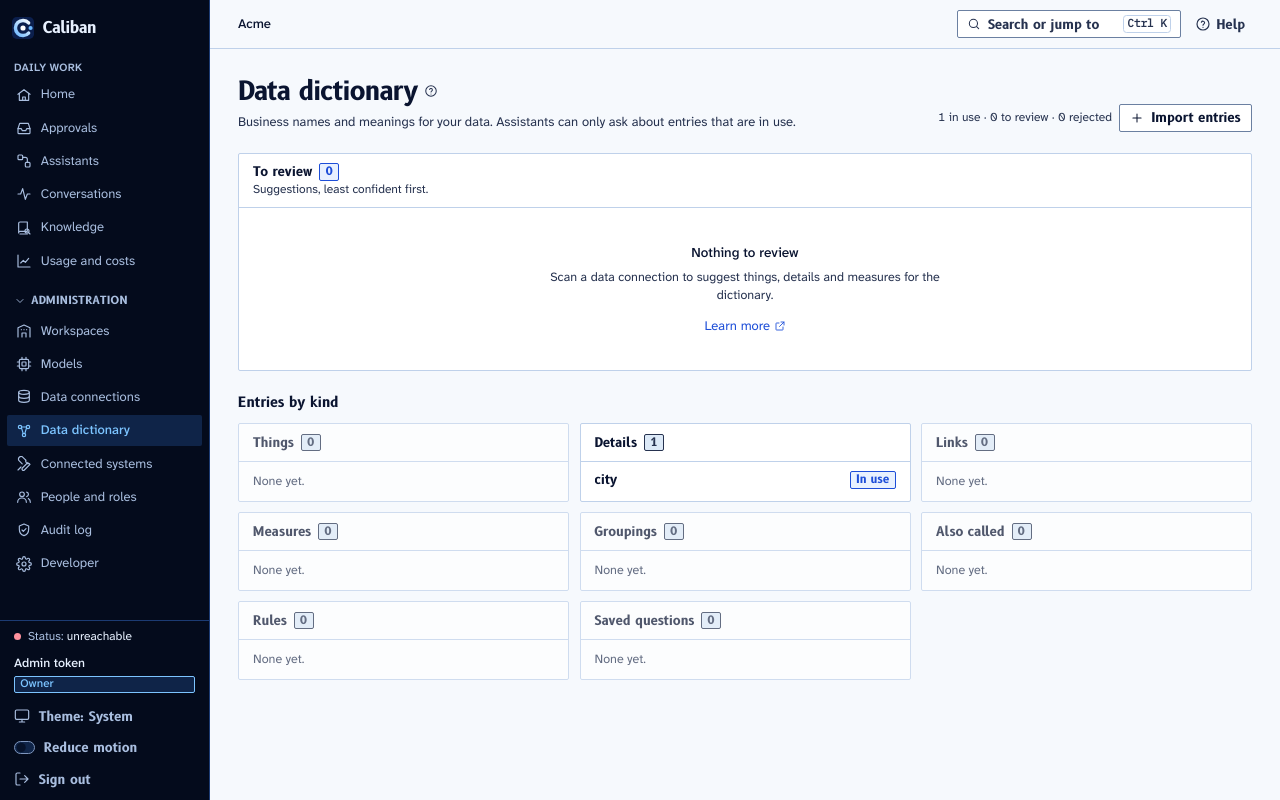
OntologyPage › shows the node versions a withdrawal breaks, and goes ahead only when acknowledged
What coordinates should you click on to do the following:
click the button "city In use"
I would click on:
 (873, 480)
Its box is [580,465,910,494].
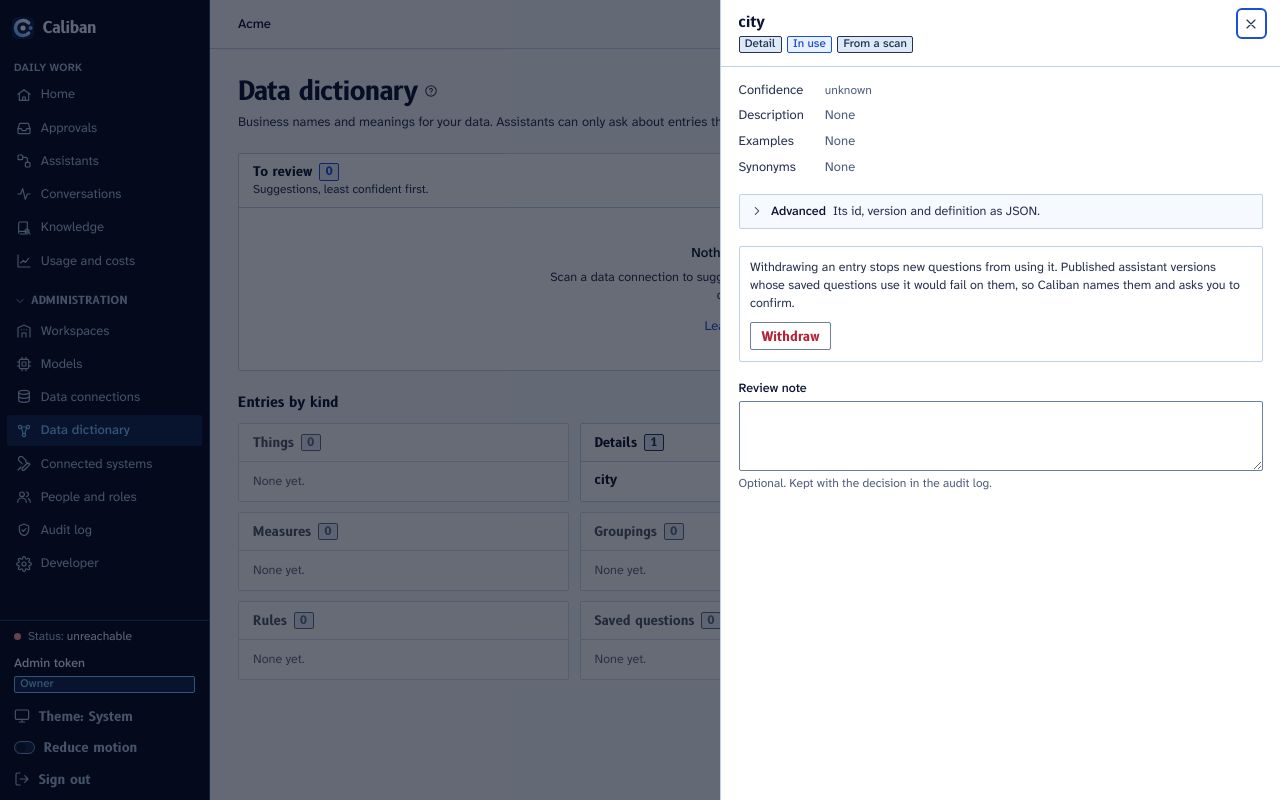
What coordinates should you click on to do the following:
click the button with aria-label "Withdraw city"
I would click on:
 (791, 336)
Its box is [750,322,831,350].
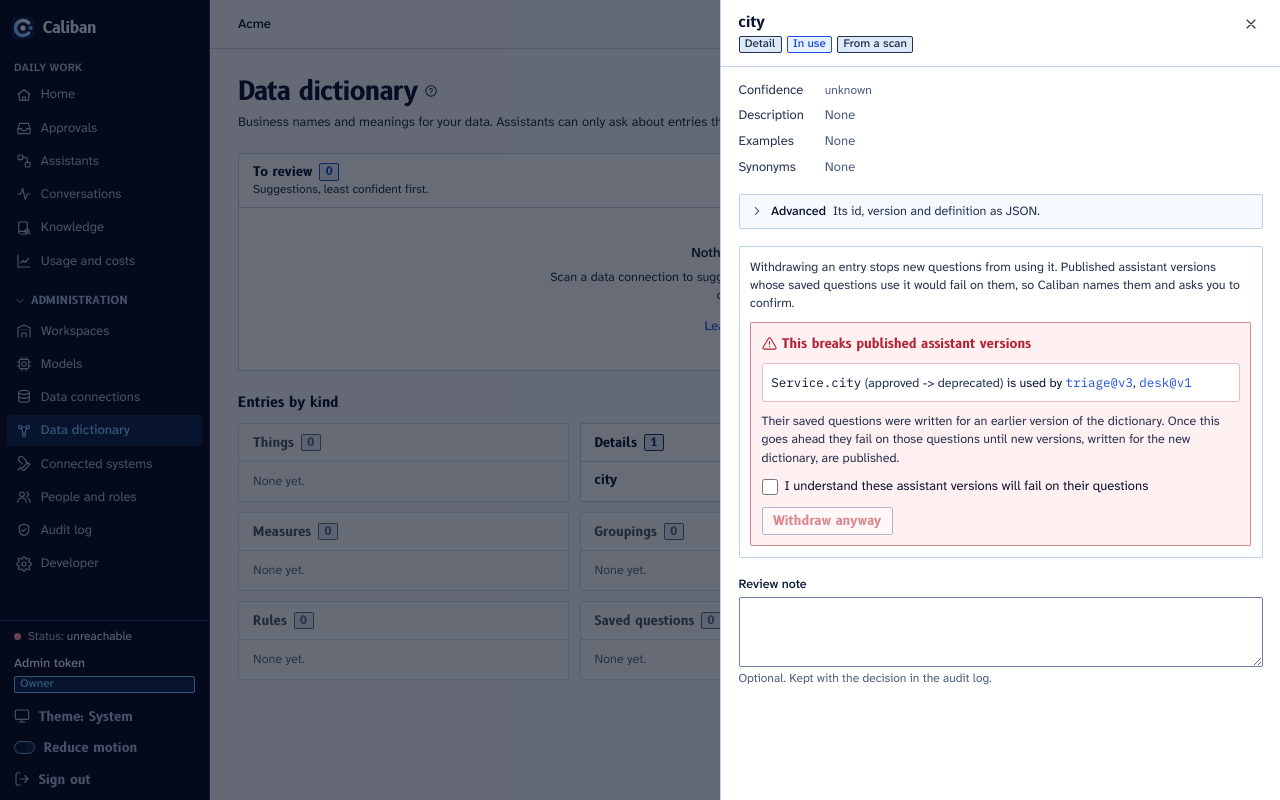
Expected: the link "desk@v1" is shown, [1139,374,1192,390]
Expected: the element named "Breaking change" shows "approved -> deprecated", [868,375,1000,391]
Expected: the button with aria-label "Withdraw city anyway" is disabled, [762,507,893,535]
What coordinates should you click on to do the following:
click the checkbox
I would click on:
 (770, 487)
Its box is [762,479,778,495].
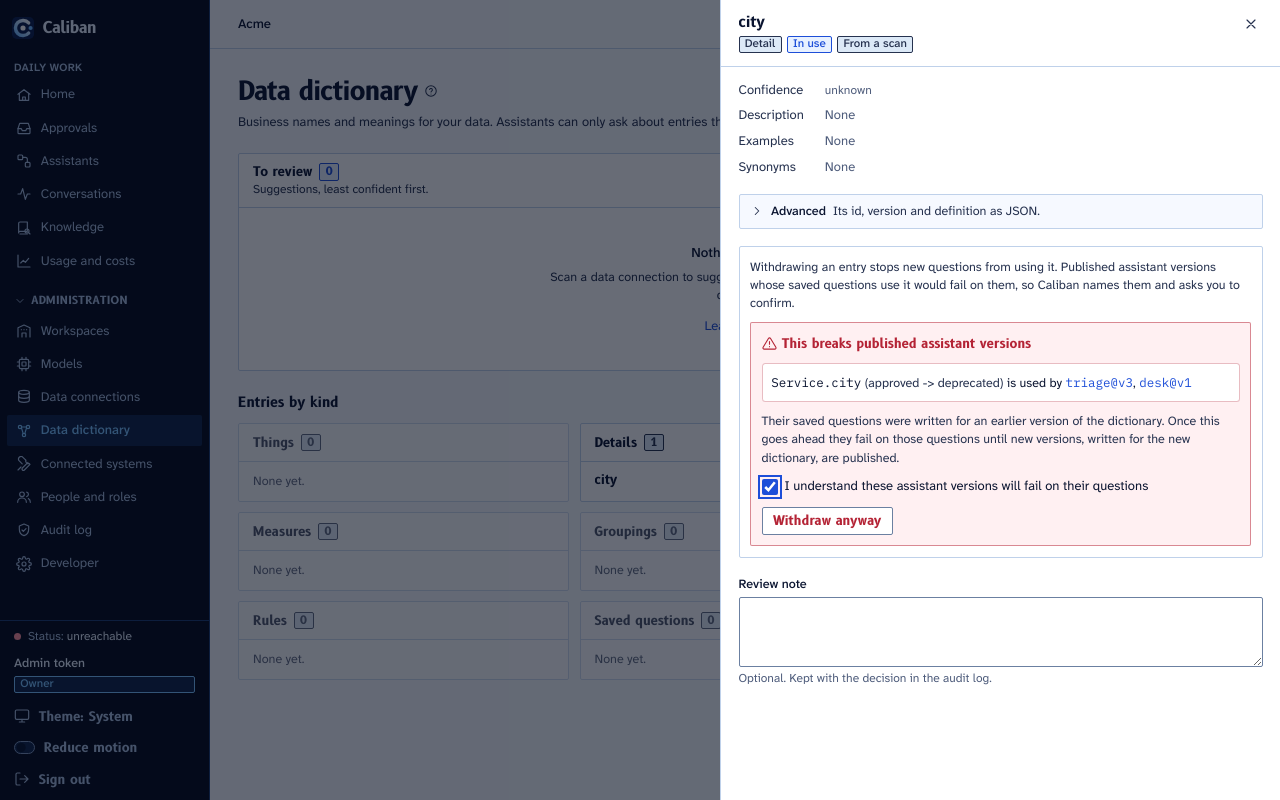
What coordinates should you click on to do the following:
click the button with aria-label "Withdraw city anyway"
I would click on:
 (827, 521)
Its box is [762,507,893,535].
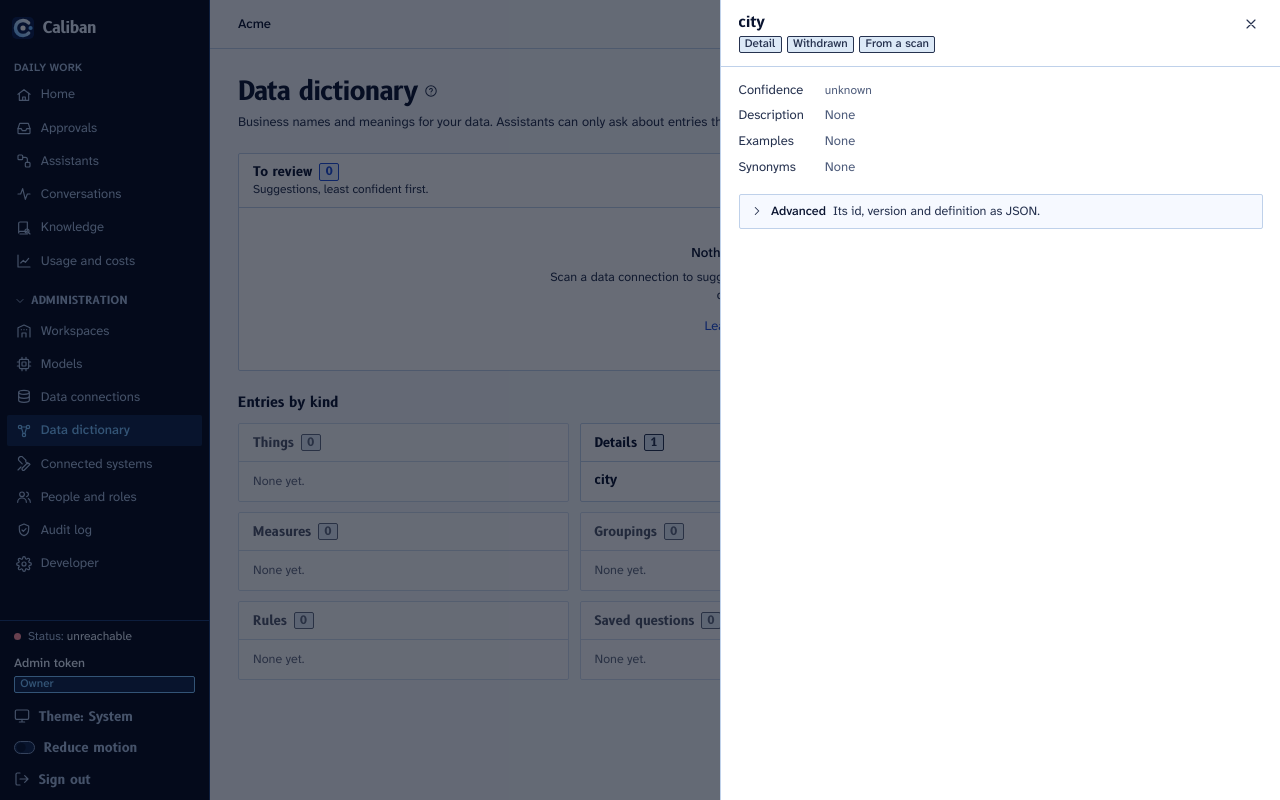
Expected: the text "Withdrawn" is shown, [787,36,854,53]
